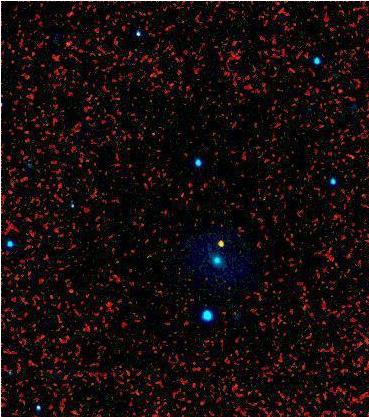star: (207, 227, 237, 257)
